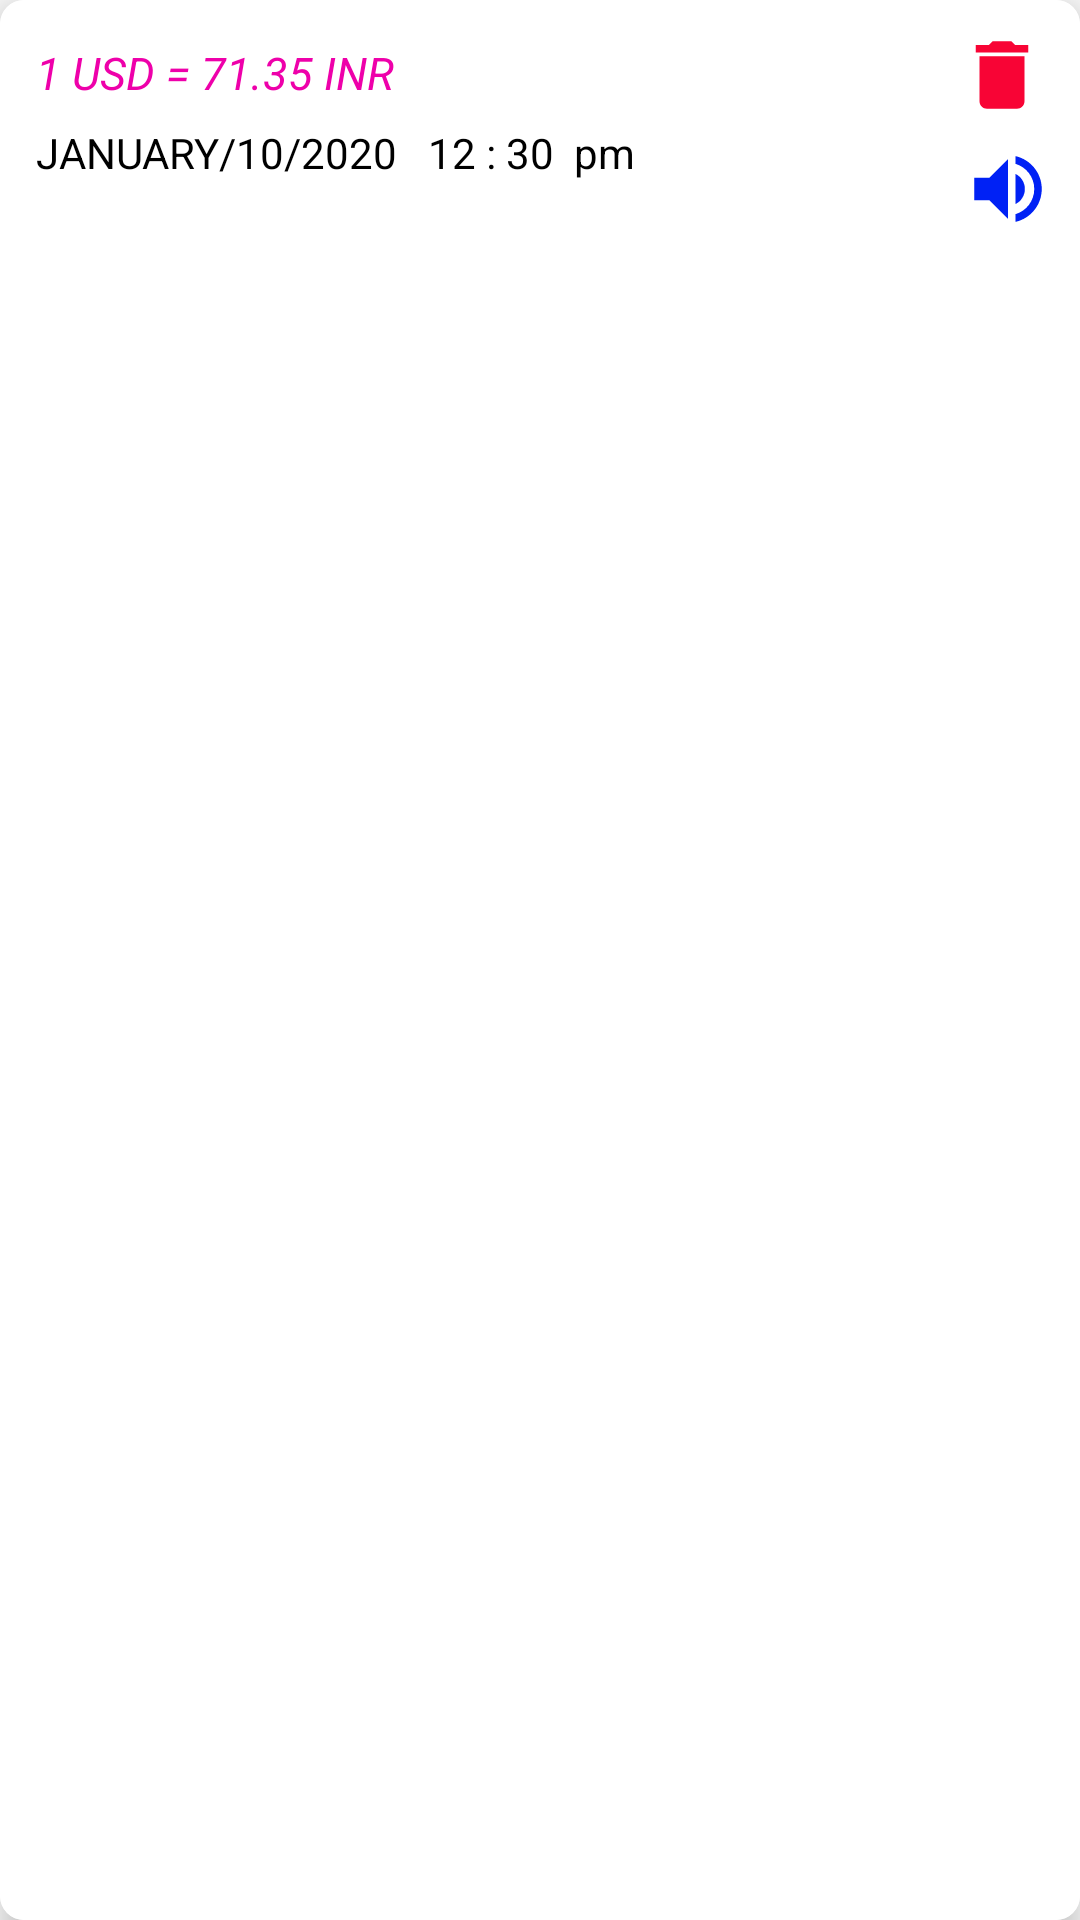

Icon click points for this 1080*1920 phone screenshot, format (x,y):
audio: (1008,189)
delete: (1002,75)
